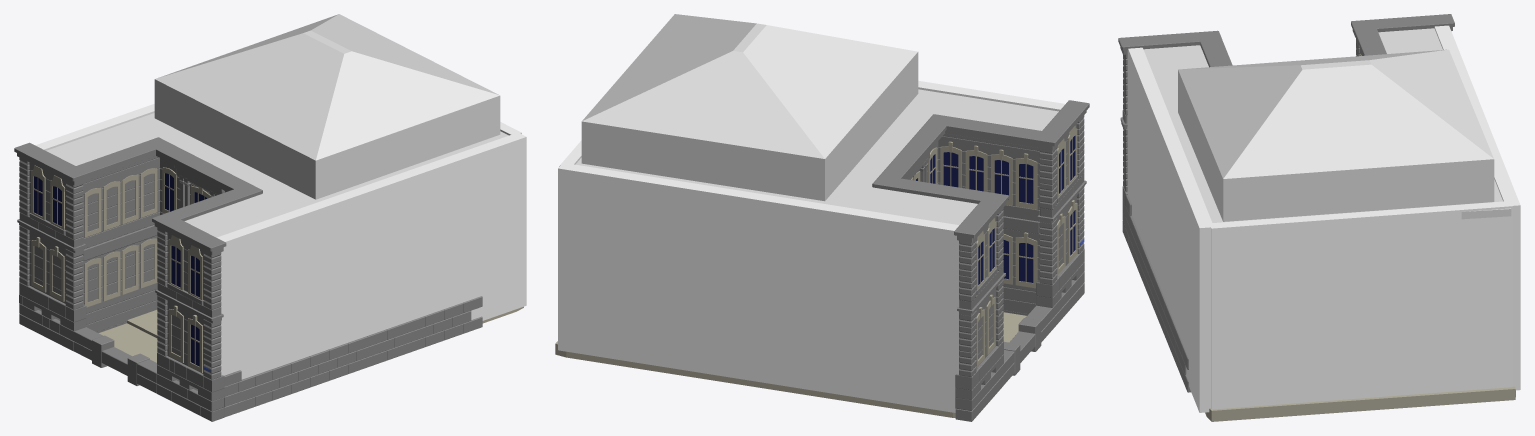
Rendered from Palais_Besenval.fbx.
3 renders of one model, left to right at view 1: azimuth 30°, elevation 25°; view 2: azimuth 150°, elevation 25°; view 3: azimuth 270°, elevation 25°, orthographic. The views are drawn at different scales.
Visible parts, largest first — view 1: Cube.2876, Cube.6198, Cube.518, Cube.3258, Cube.468, Cube.492, Cube.631, Cube.446, Cube.447, Cube.2945, Cube.489, Cube.412 (+22 smaller); view 2: Cube.2945, Cube.6198, Cube.3258, Cube.518, Cube.631, Cube.446, Cube.492, Cube.468, Cube.2876, Cube.447, Cube.479, Cube.449 (+13 smaller); view 3: Cube.2946, Cube.6198, Cube.2876, Cube.3258, Cube.631, Cube.2945, Cube.447, Cube.449, Cube.492, Cube.446.
Part boxes in pixels (x1=…): Cube.2876: x1=217, y1=133, x2=526, y2=379; Cube.6198: x1=154, y1=14, x2=500, y2=199; Cube.518: x1=29, y1=156, x2=226, y2=373; Cube.3258: x1=46, y1=113, x2=508, y2=237; Cube.468: x1=156, y1=141, x2=254, y2=191; Cube.492: x1=69, y1=137, x2=170, y2=179; Cube.631: x1=99, y1=306, x2=523, y2=362; Cube.446: x1=160, y1=184, x2=262, y2=221; Cube.447: x1=14, y1=142, x2=88, y2=185; Cube.2945: x1=35, y1=104, x2=154, y2=150; Cube.489: x1=65, y1=249, x2=83, y2=309; Cube.412: x1=203, y1=319, x2=221, y2=379; Cube.2945: x1=558, y1=162, x2=959, y2=412; Cube.6198: x1=581, y1=14, x2=918, y2=201; Cube.3258: x1=559, y1=89, x2=1058, y2=225; Cube.518: x1=917, y1=124, x2=1076, y2=367; Cube.631: x1=555, y1=312, x2=1026, y2=417; Cube.446: x1=926, y1=114, x2=1051, y2=147; Cube.492: x1=872, y1=175, x2=997, y2=203; Cube.468: x1=878, y1=119, x2=946, y2=178; Cube.2876: x1=918, y1=80, x2=1065, y2=111; Cube.447: x1=954, y1=192, x2=1008, y2=242; Cube.479: x1=959, y1=310, x2=976, y2=376; Cube.449: x1=1035, y1=100, x2=1089, y2=146; Cube.2946: x1=1209, y1=201, x2=1512, y2=409; Cube.6198: x1=1178, y1=49, x2=1494, y2=221; Cube.2876: x1=1127, y1=47, x2=1212, y2=412; Cube.3258: x1=1143, y1=28, x2=1511, y2=222; Cube.631: x1=1205, y1=386, x2=1515, y2=421; Cube.2945: x1=1434, y1=25, x2=1520, y2=390; Cube.447: x1=1351, y1=14, x2=1454, y2=37; Cube.449: x1=1118, y1=30, x2=1222, y2=50; Cube.492: x1=1353, y1=24, x2=1386, y2=55; Cube.446: x1=1199, y1=35, x2=1232, y2=67.
Size of the model in its own units: 3529 by 2178 by 2802.
